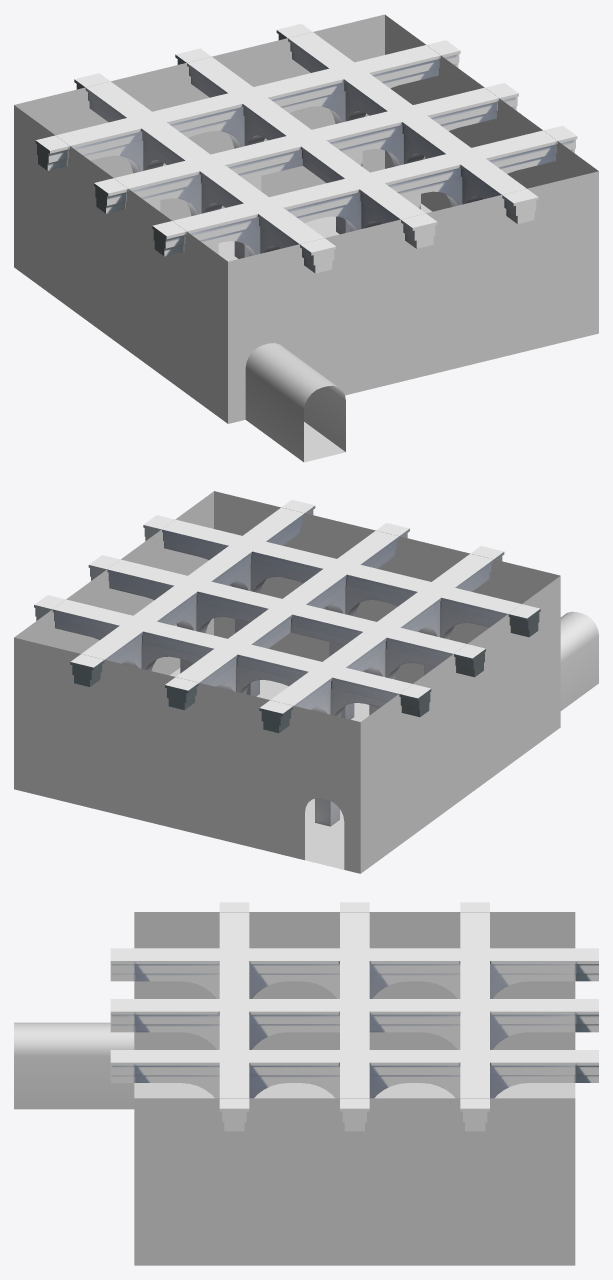
The model's file is room.glb.
The picture shows the model from 3 angles, top to bottom: view 1: azimuth 30°, elevation 25°; view 2: azimuth 150°, elevation 25°; view 3: azimuth 270°, elevation 25°; orthographic projection. The views are drawn at different scales.
Parts seen in each view (by area): view 1: walls, pillars, hallway, floor; view 2: walls, pillars, hallway, floor; view 3: walls, pillars, hallway, floor.
Boxes of the visible parts, left/top/right/bottom form: walls: left=14, top=14, right=598, bottom=423; pillars: left=35, top=24, right=577, bottom=273; hallway: left=245, top=343, right=345, bottom=462; floor: left=218, top=203, right=432, bottom=261; walls: left=14, top=491, right=560, bottom=873; pillars: left=34, top=500, right=540, bottom=826; hallway: left=560, top=611, right=598, bottom=710; floor: left=170, top=668, right=369, bottom=869; walls: left=134, top=912, right=575, bottom=1265; pillars: left=110, top=902, right=598, bottom=1131; hallway: left=14, top=1022, right=134, bottom=1109; floor: left=134, top=1083, right=575, bottom=1098.
Size of the model in its own units: 12.18 by 4.6 by 14.59.
4 materials, 1 textured.
